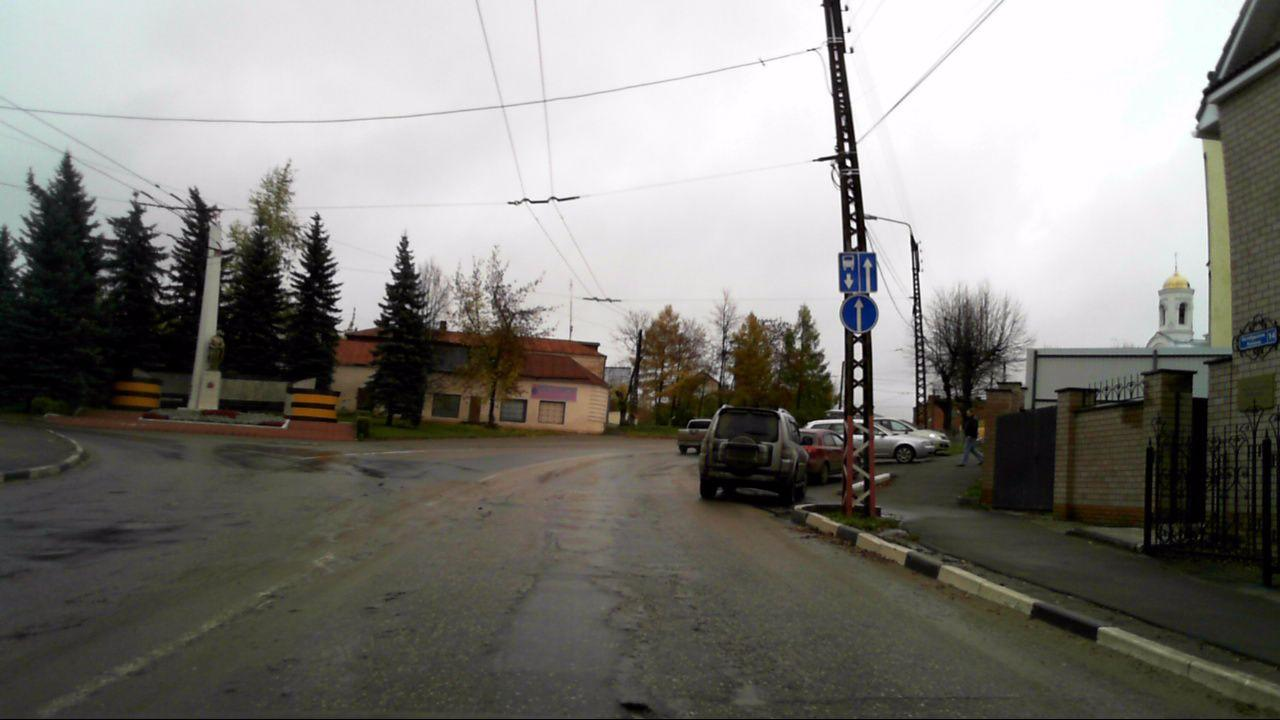4_1_1: (839, 294, 879, 333)
5_11_1: (837, 252, 877, 292)
